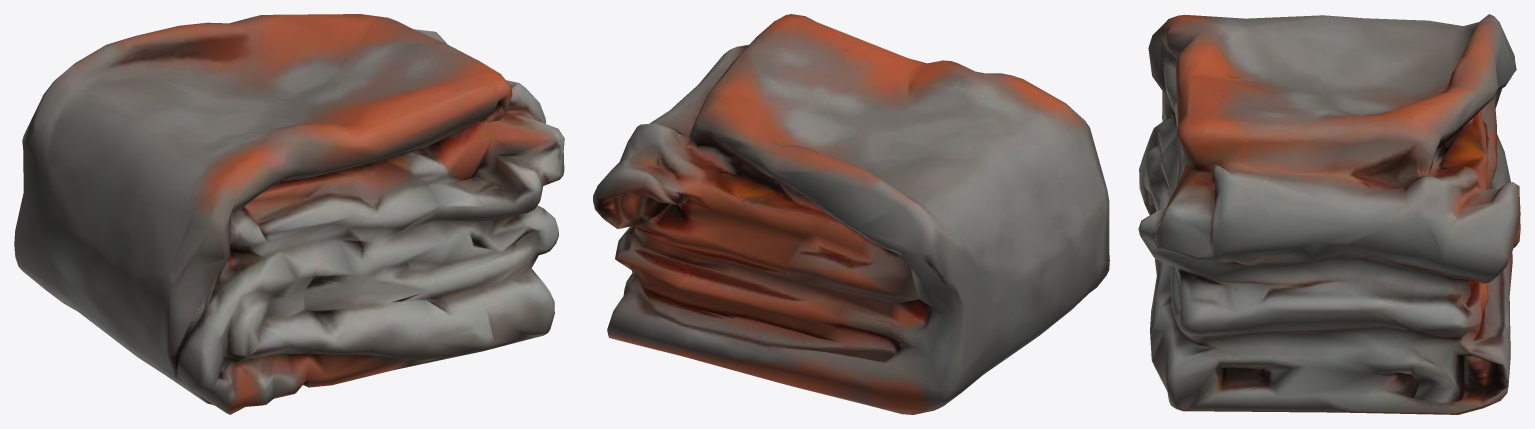
The model's file is blanket.glb.
The picture shows the model from 3 angles, left to right: view 1: azimuth 30°, elevation 25°; view 2: azimuth 150°, elevation 25°; view 3: azimuth 270°, elevation 25°; orthographic projection. The views are drawn at different scales.
Size of the model in its own units: 2 by 1.26 by 1.63.
1 material, 1 textured.
